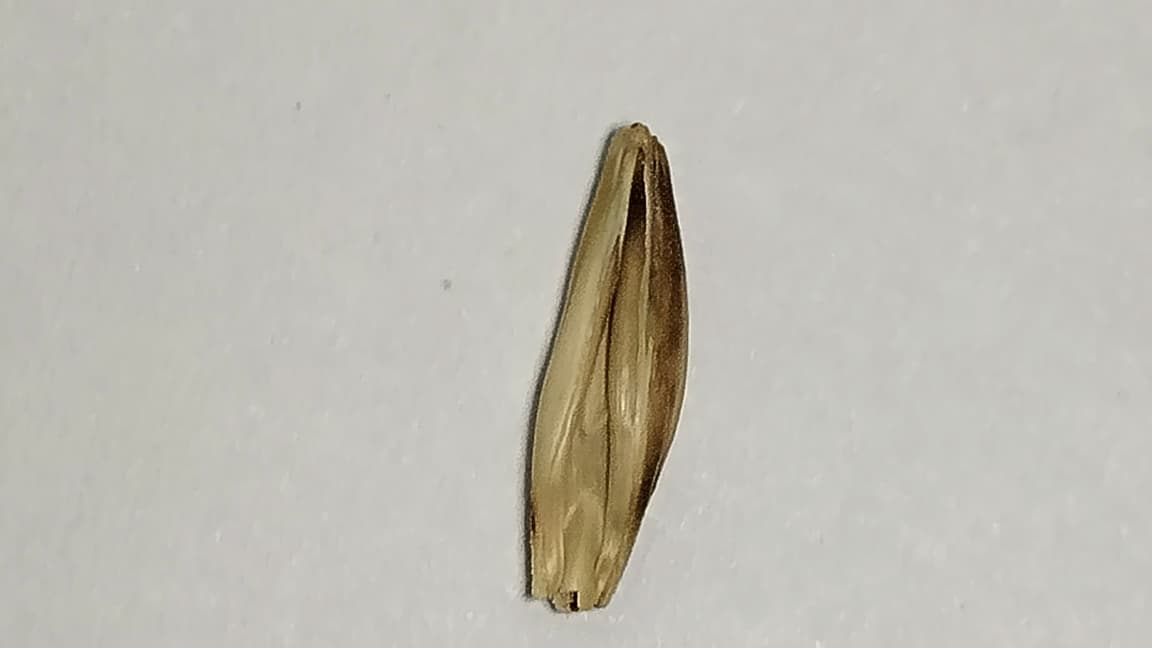damage: (531, 131, 686, 611)
staindamage: (597, 144, 700, 540)
